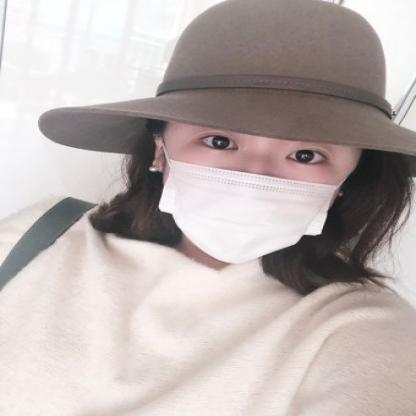hat: (33, 0, 415, 169)
